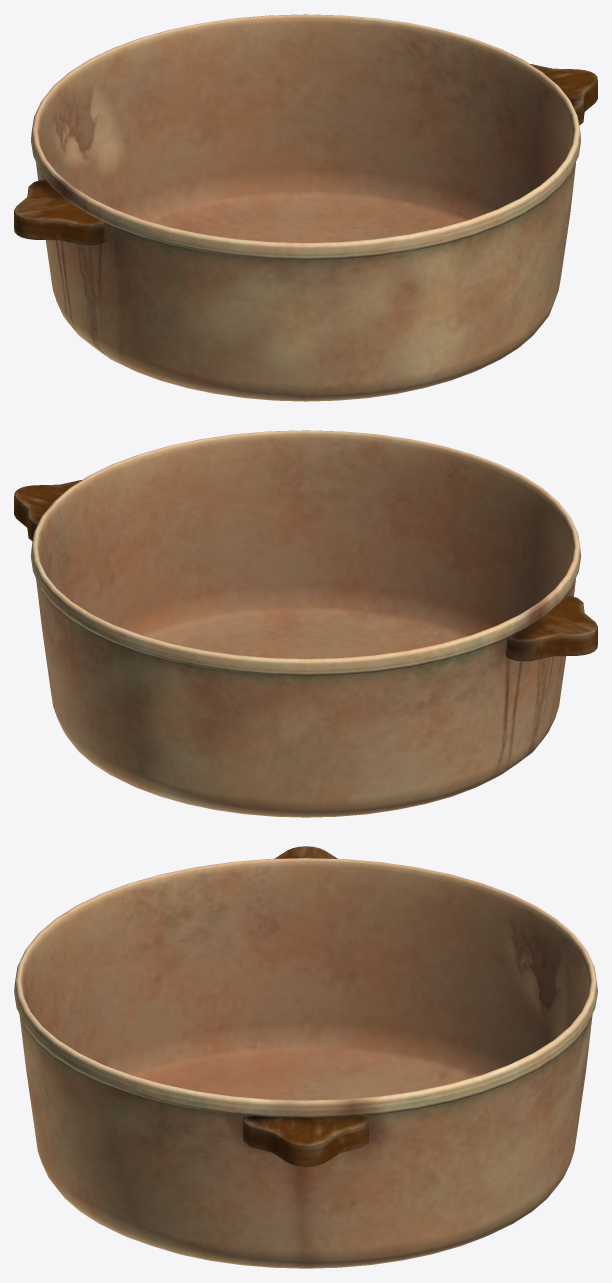
The model's file is brass_pot_02.glb.
3 views of the same model, one above another, from view 1: azimuth 30°, elevation 25°; view 2: azimuth 150°, elevation 25°; view 3: azimuth 270°, elevation 25° (orthographic). The views are drawn at different scales.
Bounding box in the file's own units: 0.3667 × 0.1085 × 0.3023.
1 material, 1 textured.
